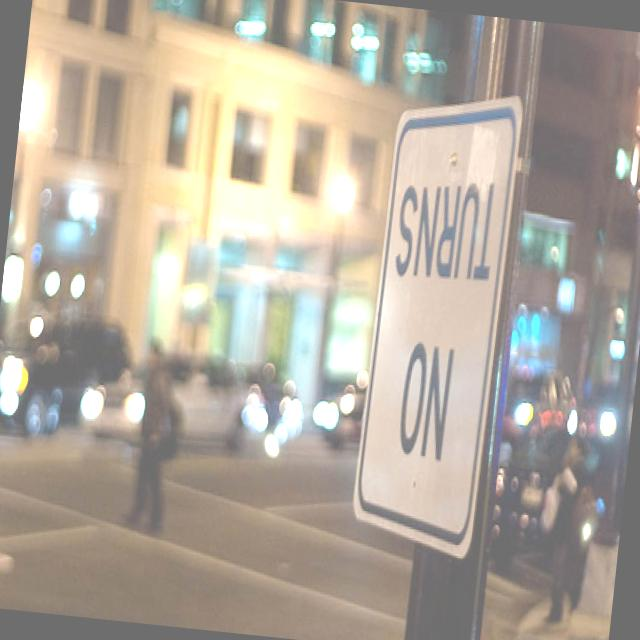Vehicle: (0, 303, 136, 454), (84, 340, 253, 460), (493, 364, 583, 500), (308, 366, 370, 449)
